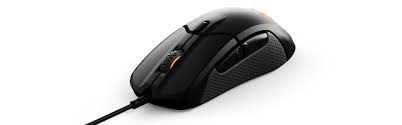mouse: (132, 3, 298, 120)
